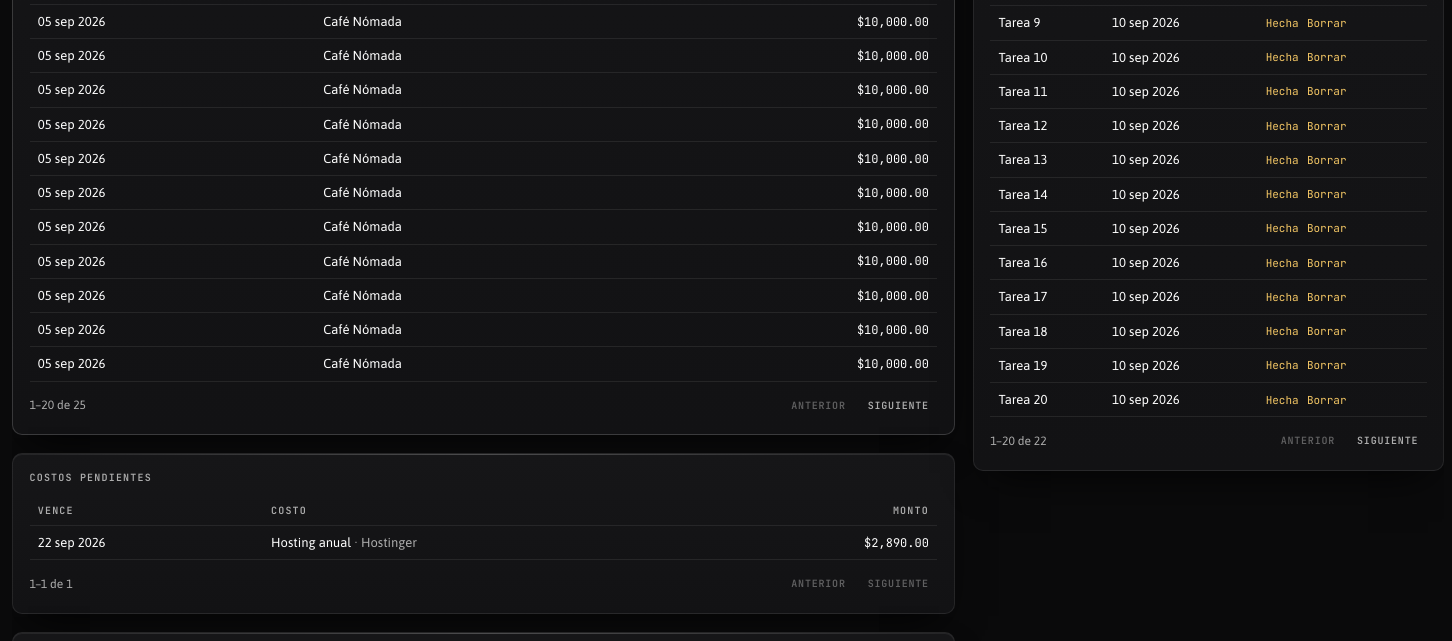
Test: Inicio, 20 a page › goes back to page 1 when the Cobros or Tareas tab changes
The width and height of the screenshot is (1452, 641).
(page scrolled)
Click the button "Siguiente" in the row of "1–20 de 25".
click(898, 405)  # box [860,393,937,417]
(page scrolled)
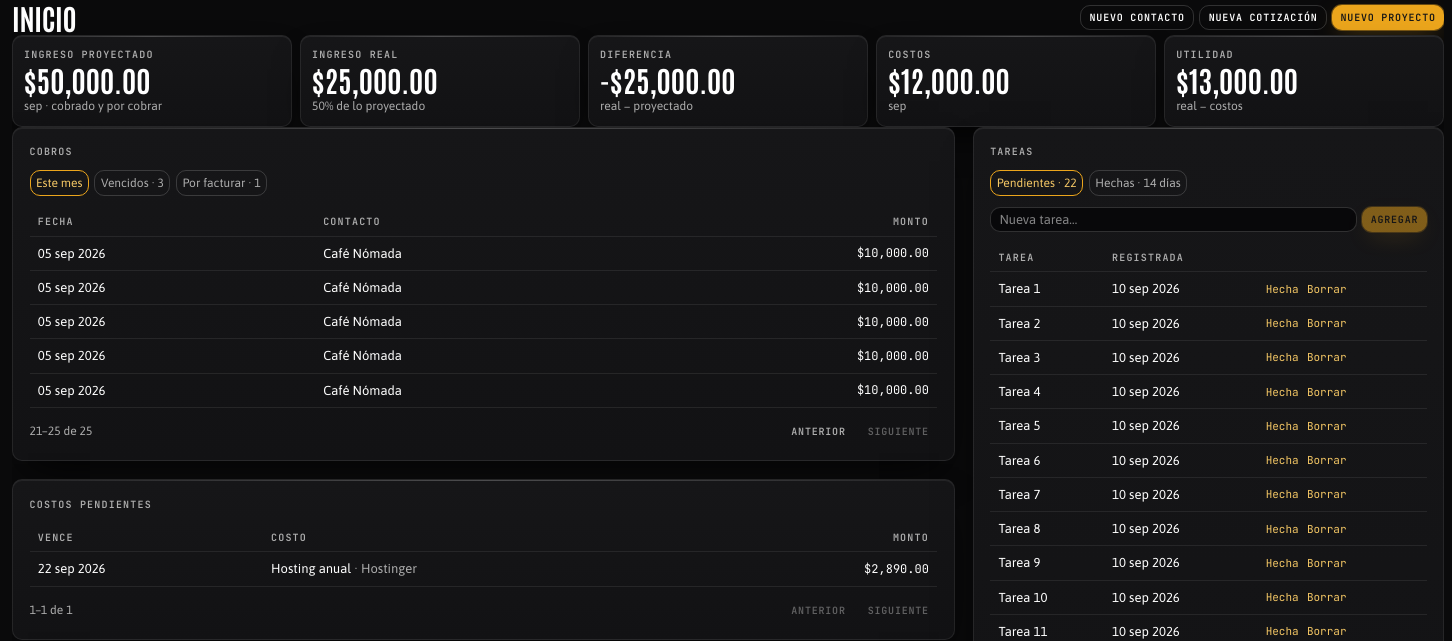
Expected: the text "21–25 de 25" is shown, [30,422,92,440]
Click the button "Vencidos · 3".
click(132, 183)  # box [94,170,170,196]
(page scrolled)
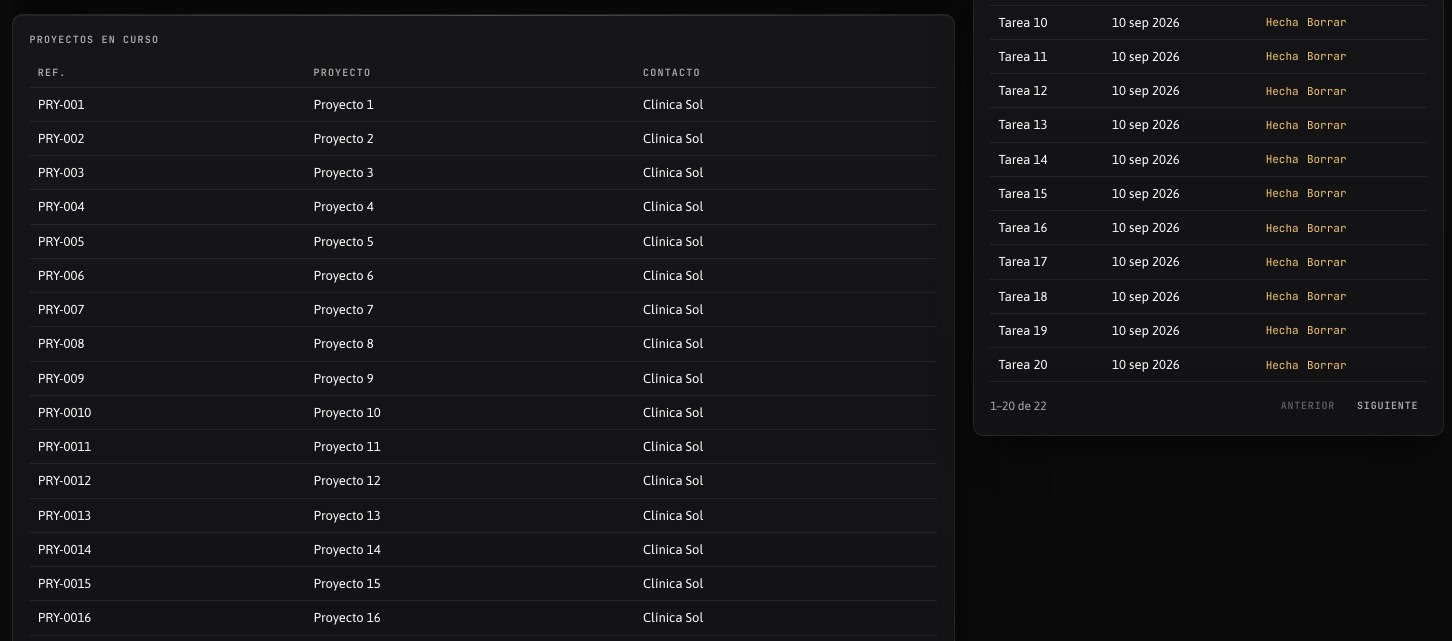
Click the button "Siguiente" in the row of "1–20 de 22".
click(1388, 406)  # box [1349,393,1426,418]
(page scrolled)
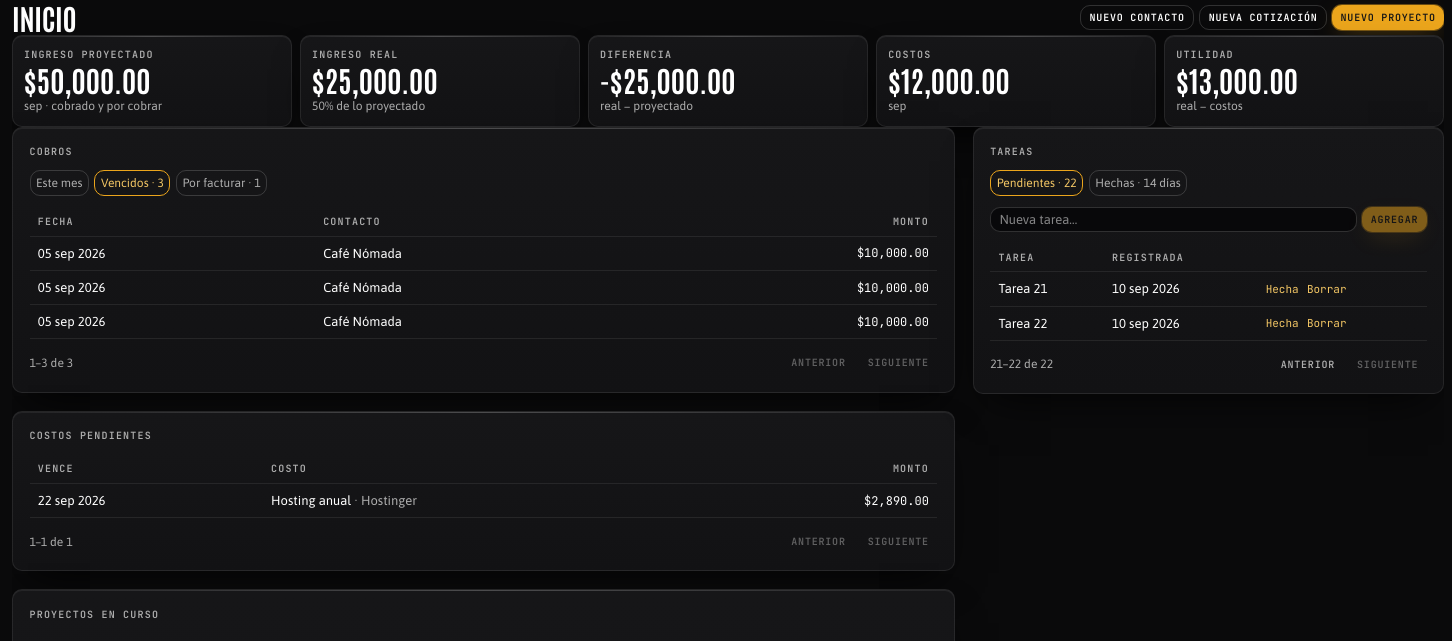
Expected: the text "21–22 de 22" is shown, [990,355,1053,373]
Click the button "Hechas · 14 días".
click(1138, 183)  # box [1089,170,1187,196]
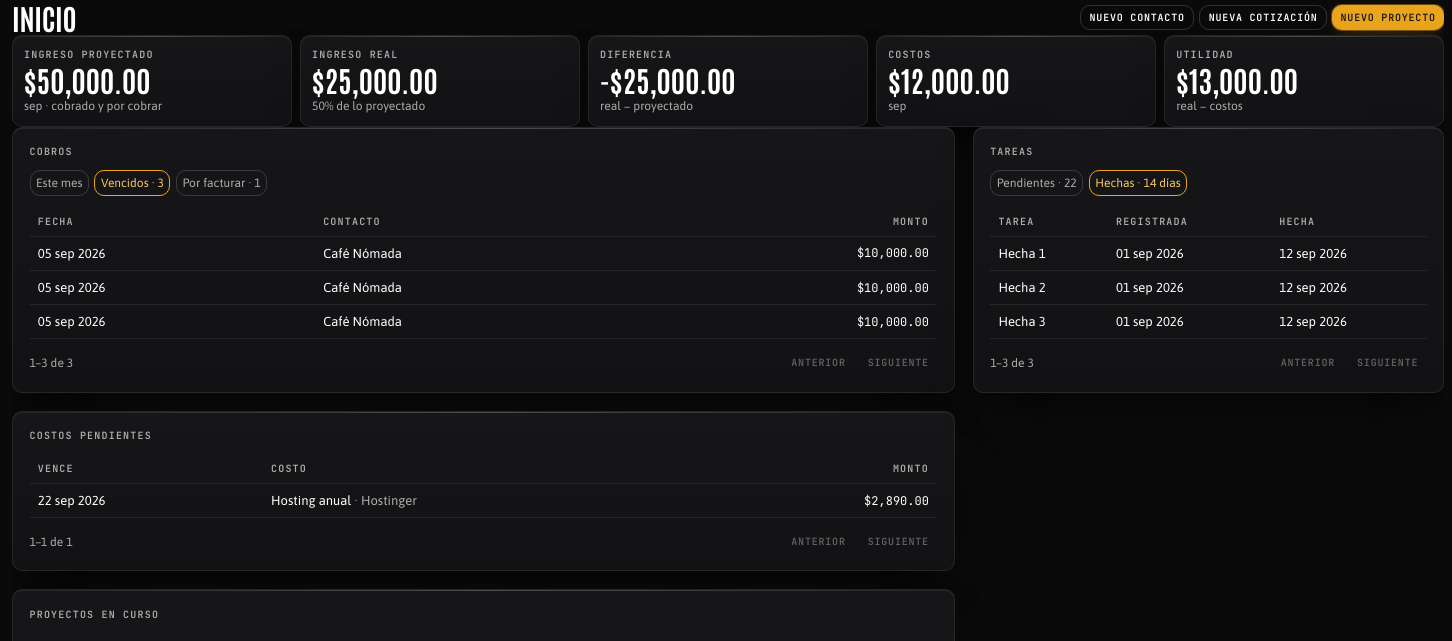
Expected: the text "1–3 de 3" below "Hecha 3" is shown, [990,356,1034,370]
Click the button "Pendientes · 22".
click(1037, 183)  # box [990,170,1083,196]
(page scrolled)
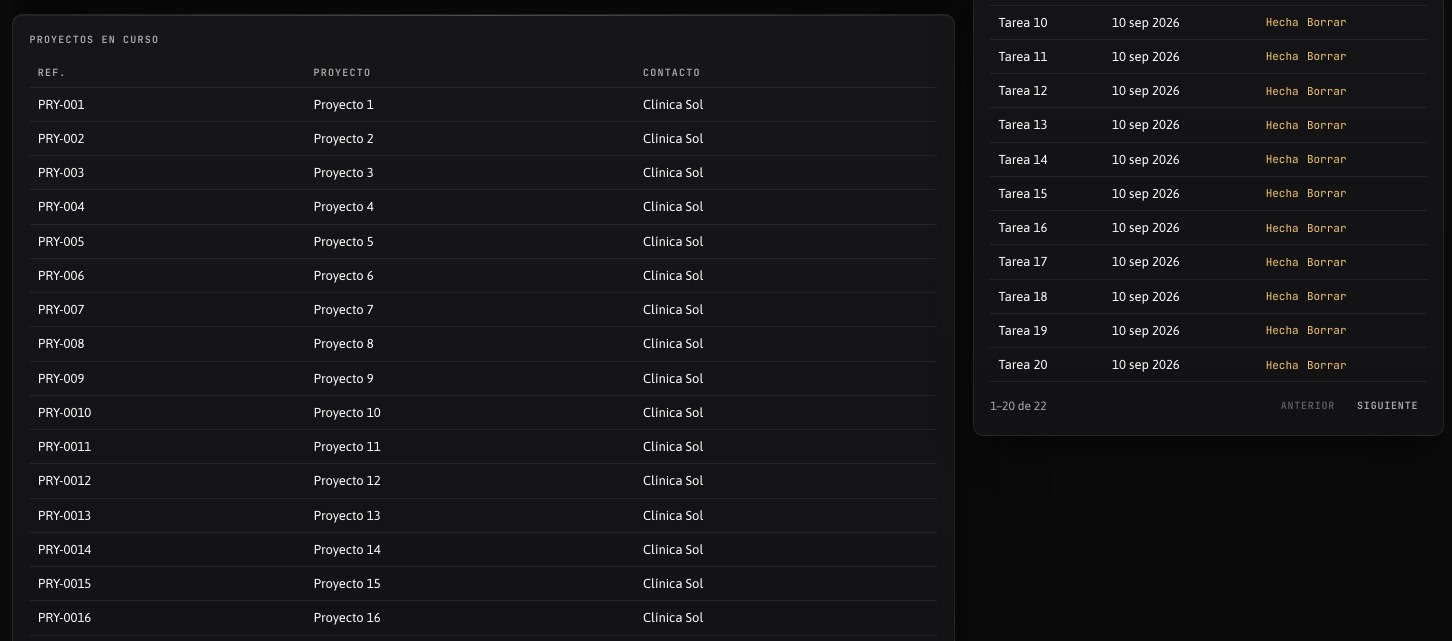
Expected: the text "1–20 de 22" is shown, [990,397,1047,415]
